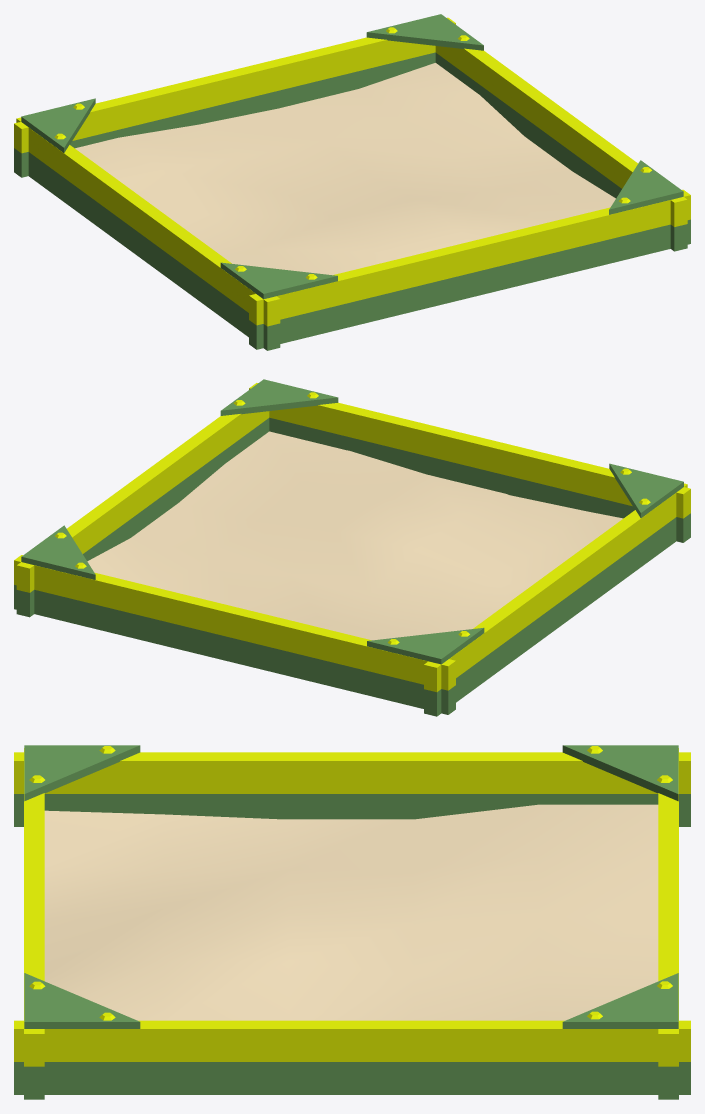
Rendered from SandBox.gltf.
3 views of the same model, one above another, from view 1: azimuth 30°, elevation 25°; view 2: azimuth 150°, elevation 25°; view 3: azimuth 270°, elevation 25° (orthographic). The views are drawn at different scales.
Parts seen in each view (by area): view 1: SM_Sandbox_01; view 2: SM_Sandbox_01; view 3: SM_Sandbox_01.
Boxes of the visible parts, box(x1,y1,x2,y2) form: SM_Sandbox_01: box(14, 14, 690, 350); SM_Sandbox_01: box(14, 379, 690, 716); SM_Sandbox_01: box(14, 745, 690, 1099).
Size of the model in its own units: 3.31 by 0.4094 by 3.31.
Materials: 1 (1 with a texture image).
